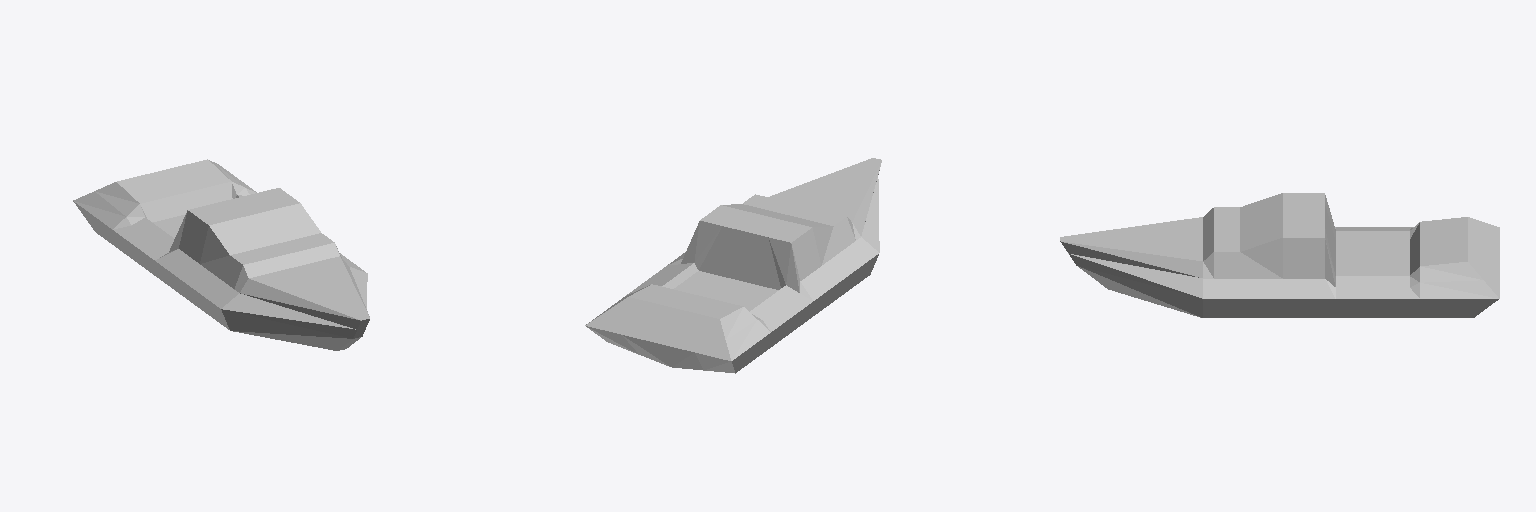
File: hull.obj
3 views of the same model, side by side, from view 1: azimuth 30°, elevation 25°; view 2: azimuth 150°, elevation 25°; view 3: azimuth 270°, elevation 25° (orthographic).
Parts seen in each view (by area): view 1: Hull_BezierCurve; view 2: Hull_BezierCurve; view 3: Hull_BezierCurve.
Part boxes in pixels (bbox=[...]): Hull_BezierCurve: bbox=[73, 159, 369, 350]; Hull_BezierCurve: bbox=[585, 158, 881, 373]; Hull_BezierCurve: bbox=[1060, 193, 1499, 317].
Bounding box in the file's own units: 3.2 × 1.7 × 8.3.